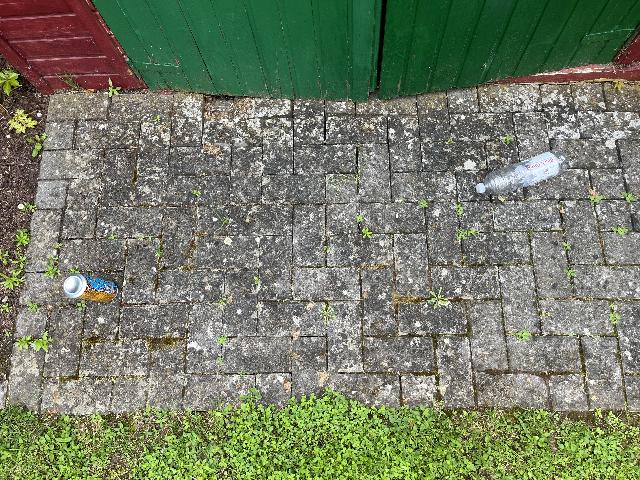can: (62, 271, 119, 304)
plastic_bottle: (474, 148, 568, 199)
